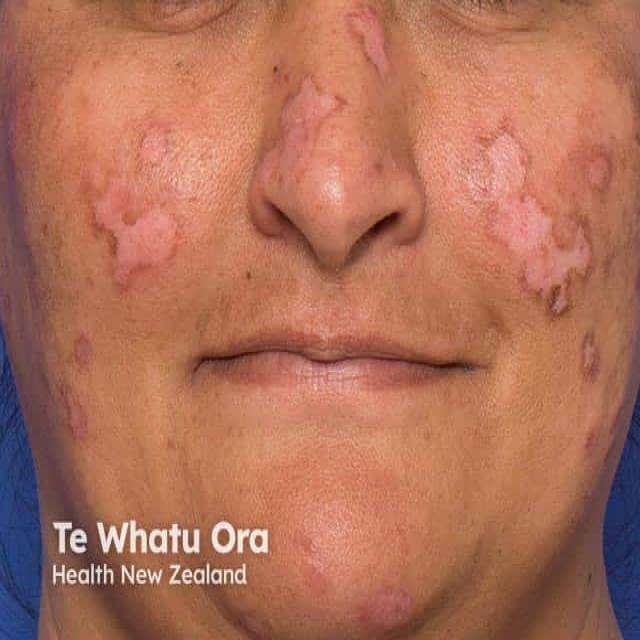lupus-detected: (448, 130, 640, 403), (80, 87, 256, 350), (292, 17, 422, 198), (284, 488, 434, 624), (40, 357, 114, 437)
